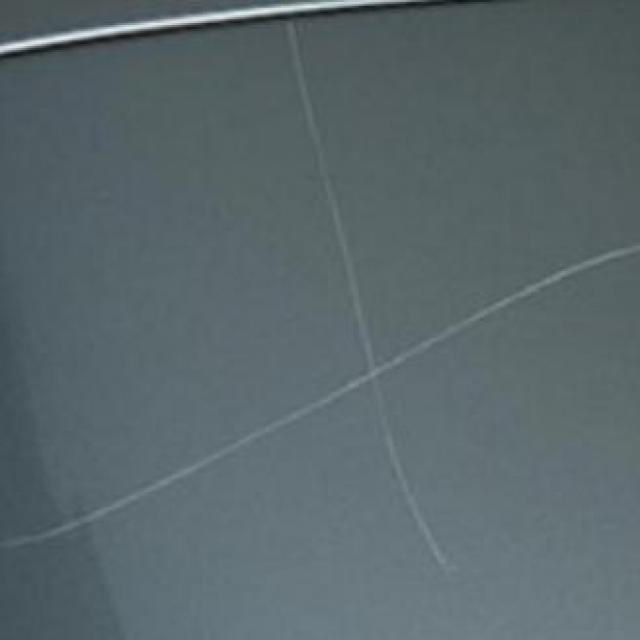scratch: (0, 234, 626, 559), (274, 16, 454, 574)
